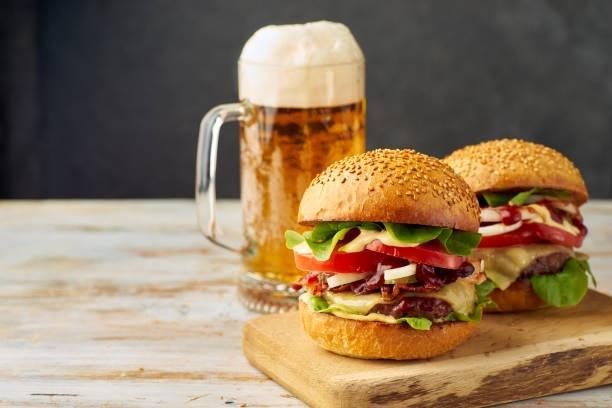glass-mug: (190, 36, 369, 312)
